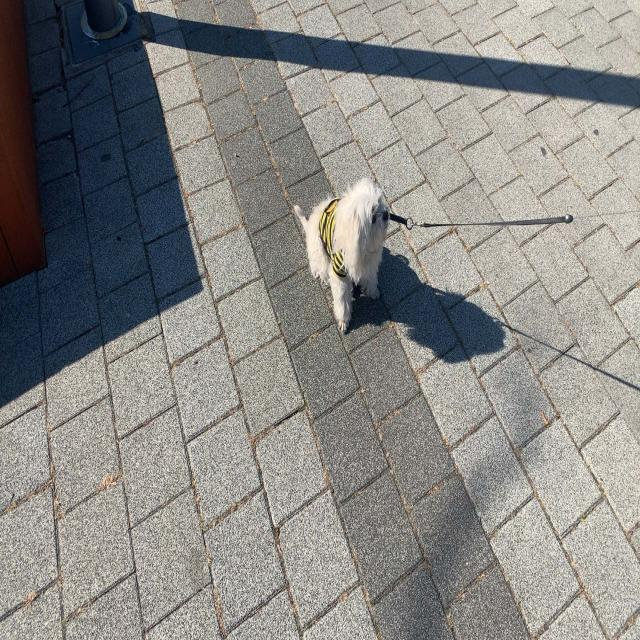Dog: (294, 176, 391, 334)
